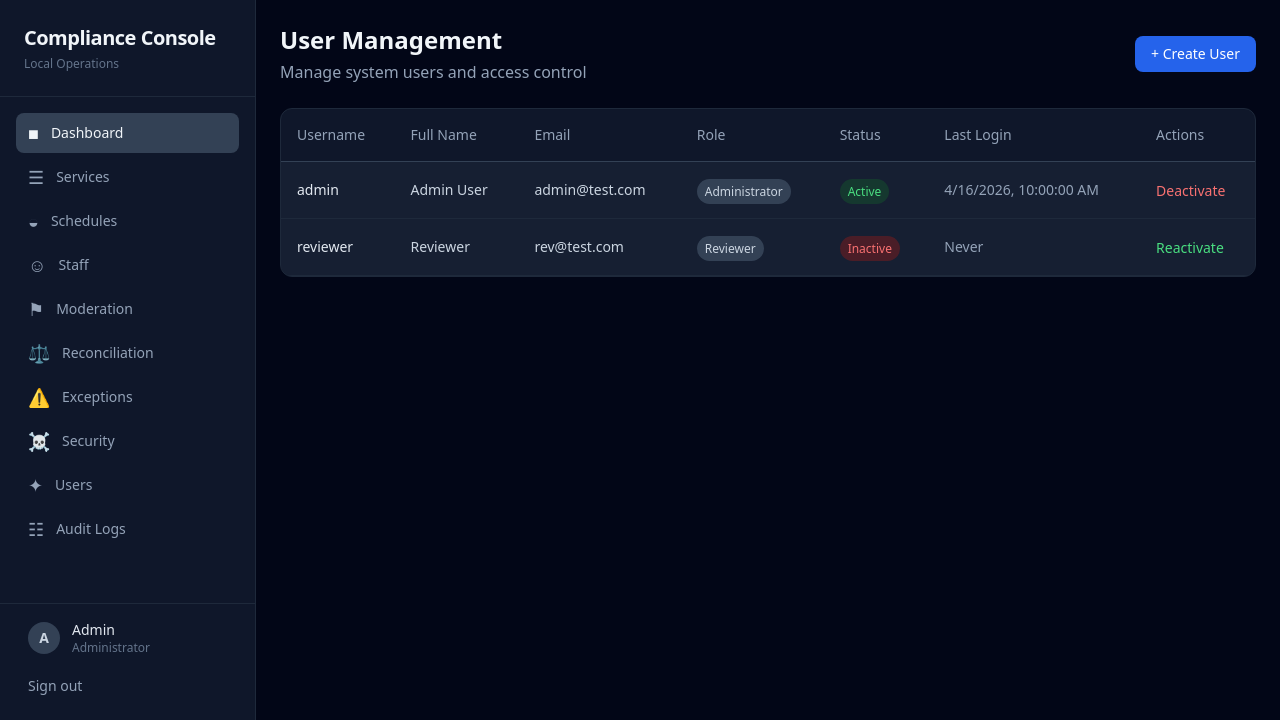
Scenario: UserManagement › opens create form on click
The width and height of the screenshot is (1280, 720).
Click the button "+ Create User": (1196, 54) [1135,36,1256,72]
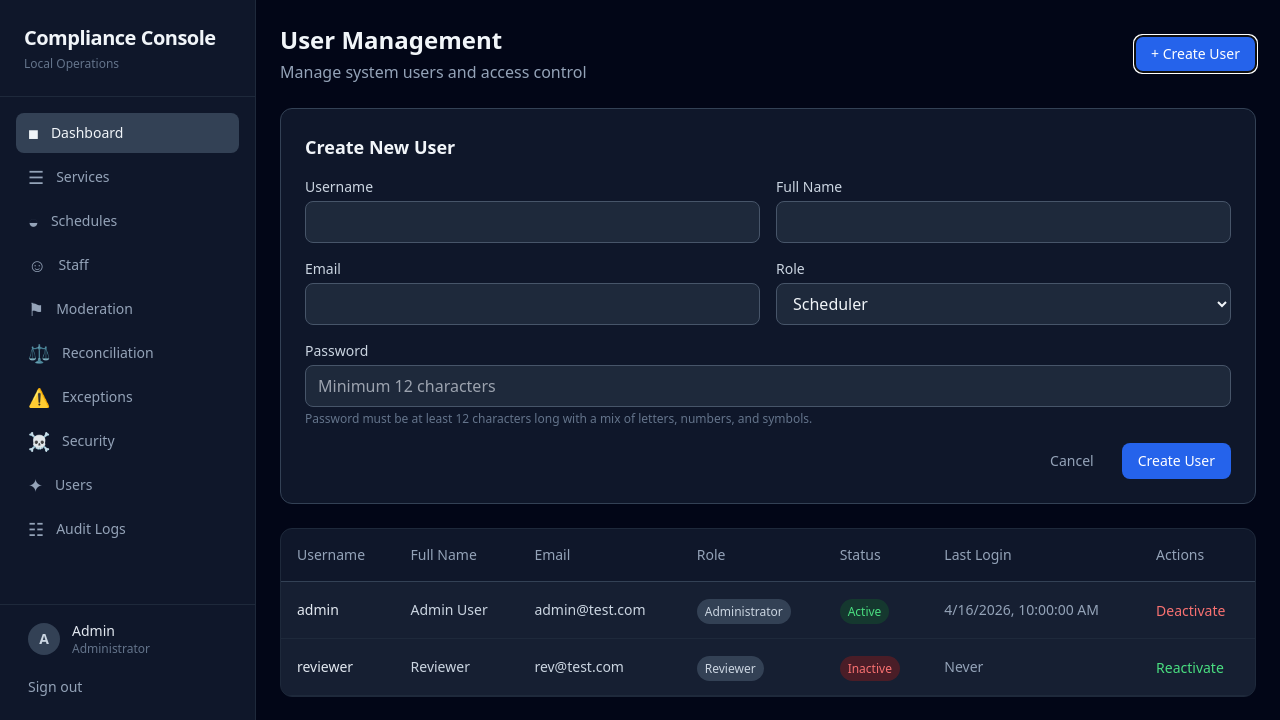
Result: the 1st field is shown at [305,201,760,243]
